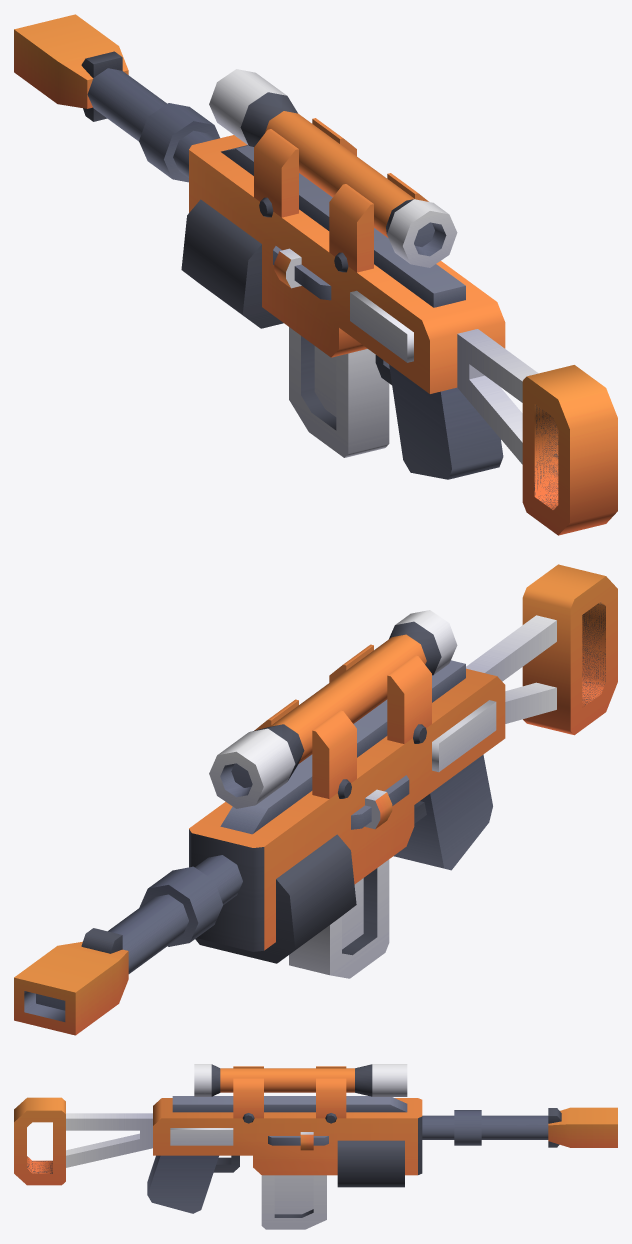
Rendered from blaster-e.glb.
The picture shows the model from 3 angles, top to bottom: view 1: azimuth 30°, elevation 25°; view 2: azimuth 150°, elevation 25°; view 3: azimuth 270°, elevation 25°; orthographic projection. The views are drawn at different scales.
Parts seen in each view (by area): view 1: blaster-e, scope, magazine; view 2: blaster-e, scope, magazine; view 3: blaster-e, scope, magazine.
Part boxes in pixels (<box>): blaster-e: <box>14,14,617,535</box>; scope: <box>209,69,457,272</box>; magazine: <box>289,327,389,457</box>; blaster-e: <box>14,564,617,1035</box>; scope: <box>209,610,457,808</box>; magazine: <box>289,859,389,978</box>; blaster-e: <box>14,1096,617,1213</box>; scope: <box>194,1064,407,1123</box>; magazine: <box>261,1175,326,1229</box>.
Bounding box in the file's own units: 0.1664 × 0.405 × 1.39.
Materials: 1 (1 with a texture image).
